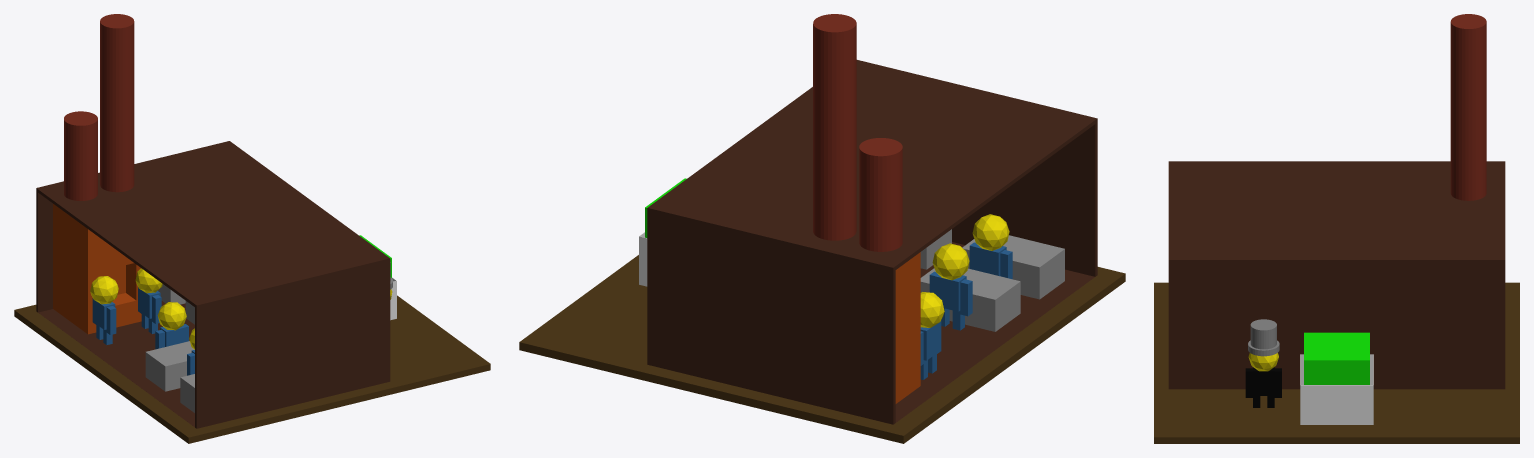
The model's file is factory.glb.
3 renders of one model, left to right at view 1: azimuth 30°, elevation 25°; view 2: azimuth 150°, elevation 25°; view 3: azimuth 270°, elevation 25°, orthographic. The views are drawn at different scales.
Parts seen in each view (by area): view 1: Factory, Base, Furnace, Worker, Tables; view 2: Factory, Base, Worker, Tables, Furnace; view 3: Factory, Base, Cube.001, Cube, Bougie.
Part boxes in pixels (bbox=[...]): Factory: bbox=[36, 14, 390, 428]; Base: bbox=[14, 295, 490, 443]; Furnace: bbox=[53, 204, 141, 334]; Worker: bbox=[90, 268, 194, 375]; Tables: bbox=[145, 284, 194, 412]; Factory: bbox=[647, 14, 1097, 424]; Base: bbox=[519, 255, 1125, 443]; Worker: bbox=[920, 214, 1012, 379]; Tables: bbox=[920, 229, 1064, 331]; Furnace: bbox=[895, 252, 920, 403]; Factory: bbox=[1168, 14, 1505, 389]; Base: bbox=[1154, 282, 1519, 443]; Cube.001: bbox=[1304, 332, 1369, 384]; Cube: bbox=[1300, 354, 1373, 424]; Bougie: bbox=[1245, 319, 1281, 407].
Size of the model in its own units: 10 by 9.29 by 10.
